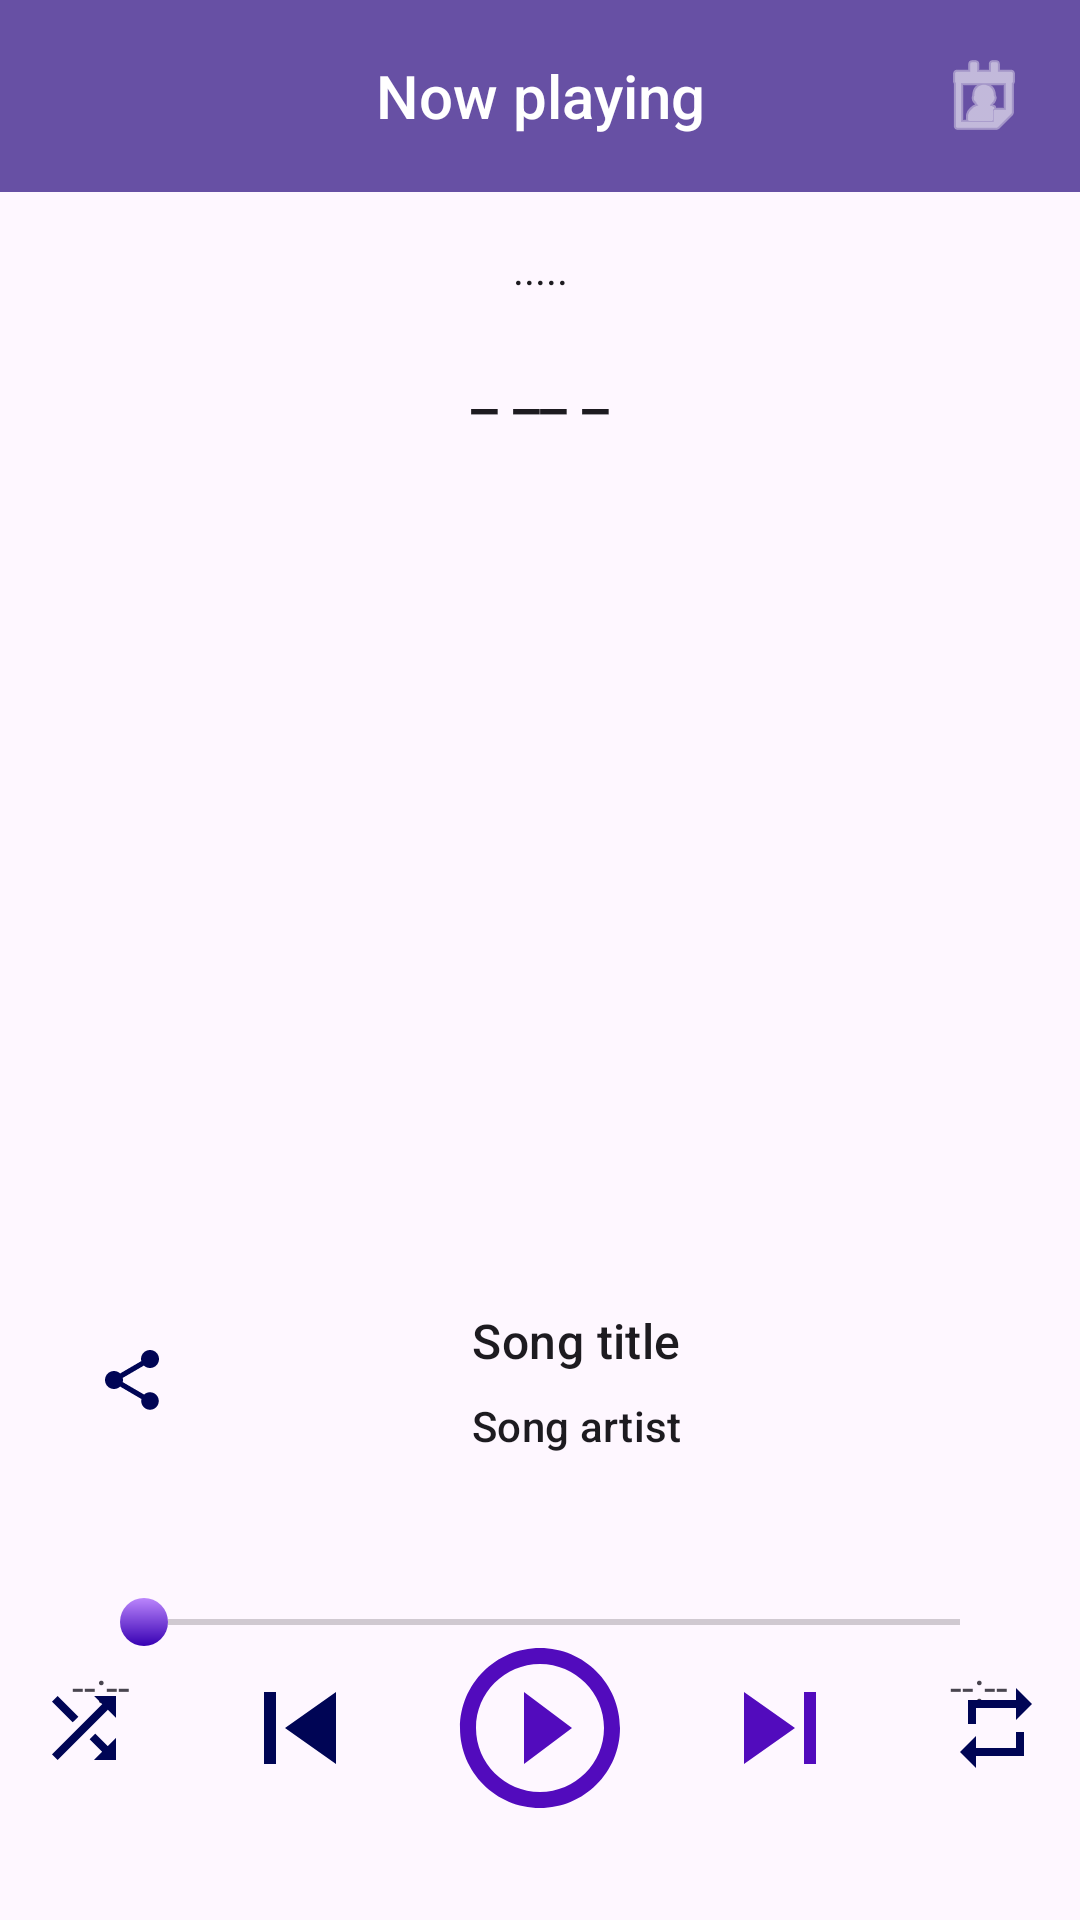

Screen size 1080x1920. Icon name, then its center in pixels as (x=x, y=y):
play circle: (x=540, y=1728)
repeat: (x=991, y=1724)
share: (x=132, y=1380)
shuffle: (x=90, y=1720)
skip next: (x=780, y=1728)
skip previous: (x=300, y=1728)
